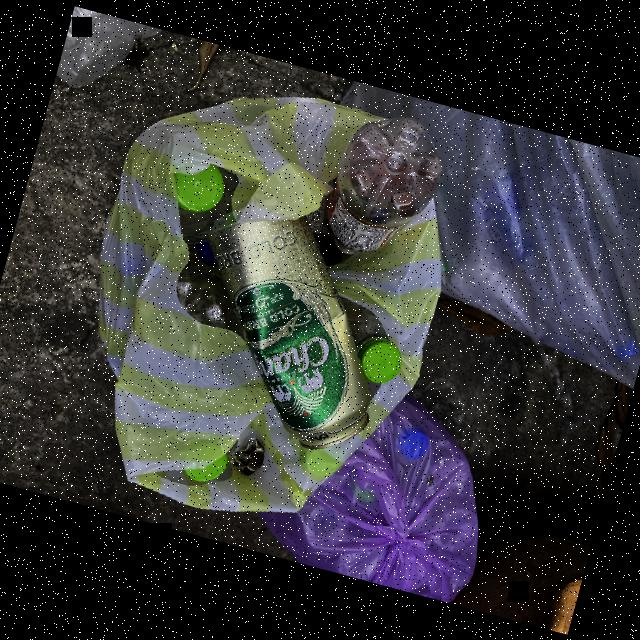can: (164, 192, 416, 463)
plastic_bag: (31, 49, 484, 562), (284, 78, 640, 387), (240, 366, 516, 608)
plastic_bottle: (314, 106, 454, 274)
plastic_bottle_cap: (162, 154, 230, 218), (349, 331, 406, 388), (177, 440, 230, 490)
